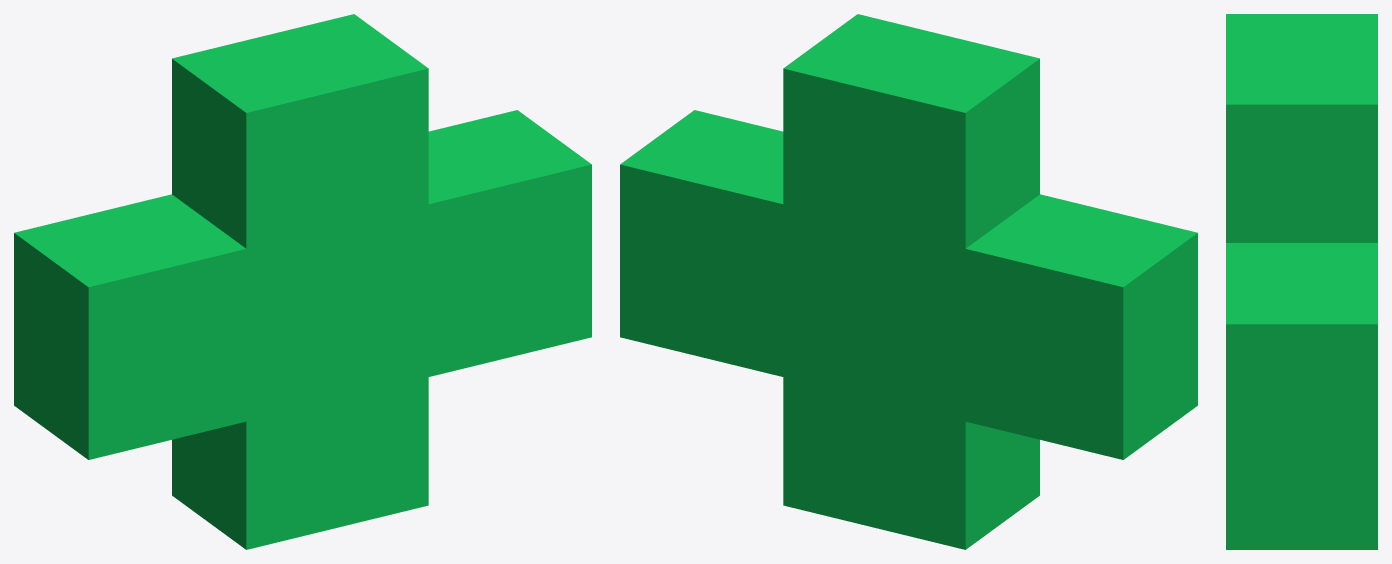
File: health_pack.dae
3 renders of one model, left to right at view 1: azimuth 30°, elevation 25°; view 2: azimuth 150°, elevation 25°; view 3: azimuth 270°, elevation 25°, orthographic.
Parts seen in each view (by area): view 1: Cube; view 2: Cube; view 3: Cube.
Part boxes in pixels (bbox=[...]): Cube: bbox=[14, 14, 591, 549]; Cube: bbox=[620, 14, 1197, 549]; Cube: bbox=[1226, 14, 1377, 549].
Bounding box in the file's own units: 0.6169 × 0.1582 × 0.5116.
